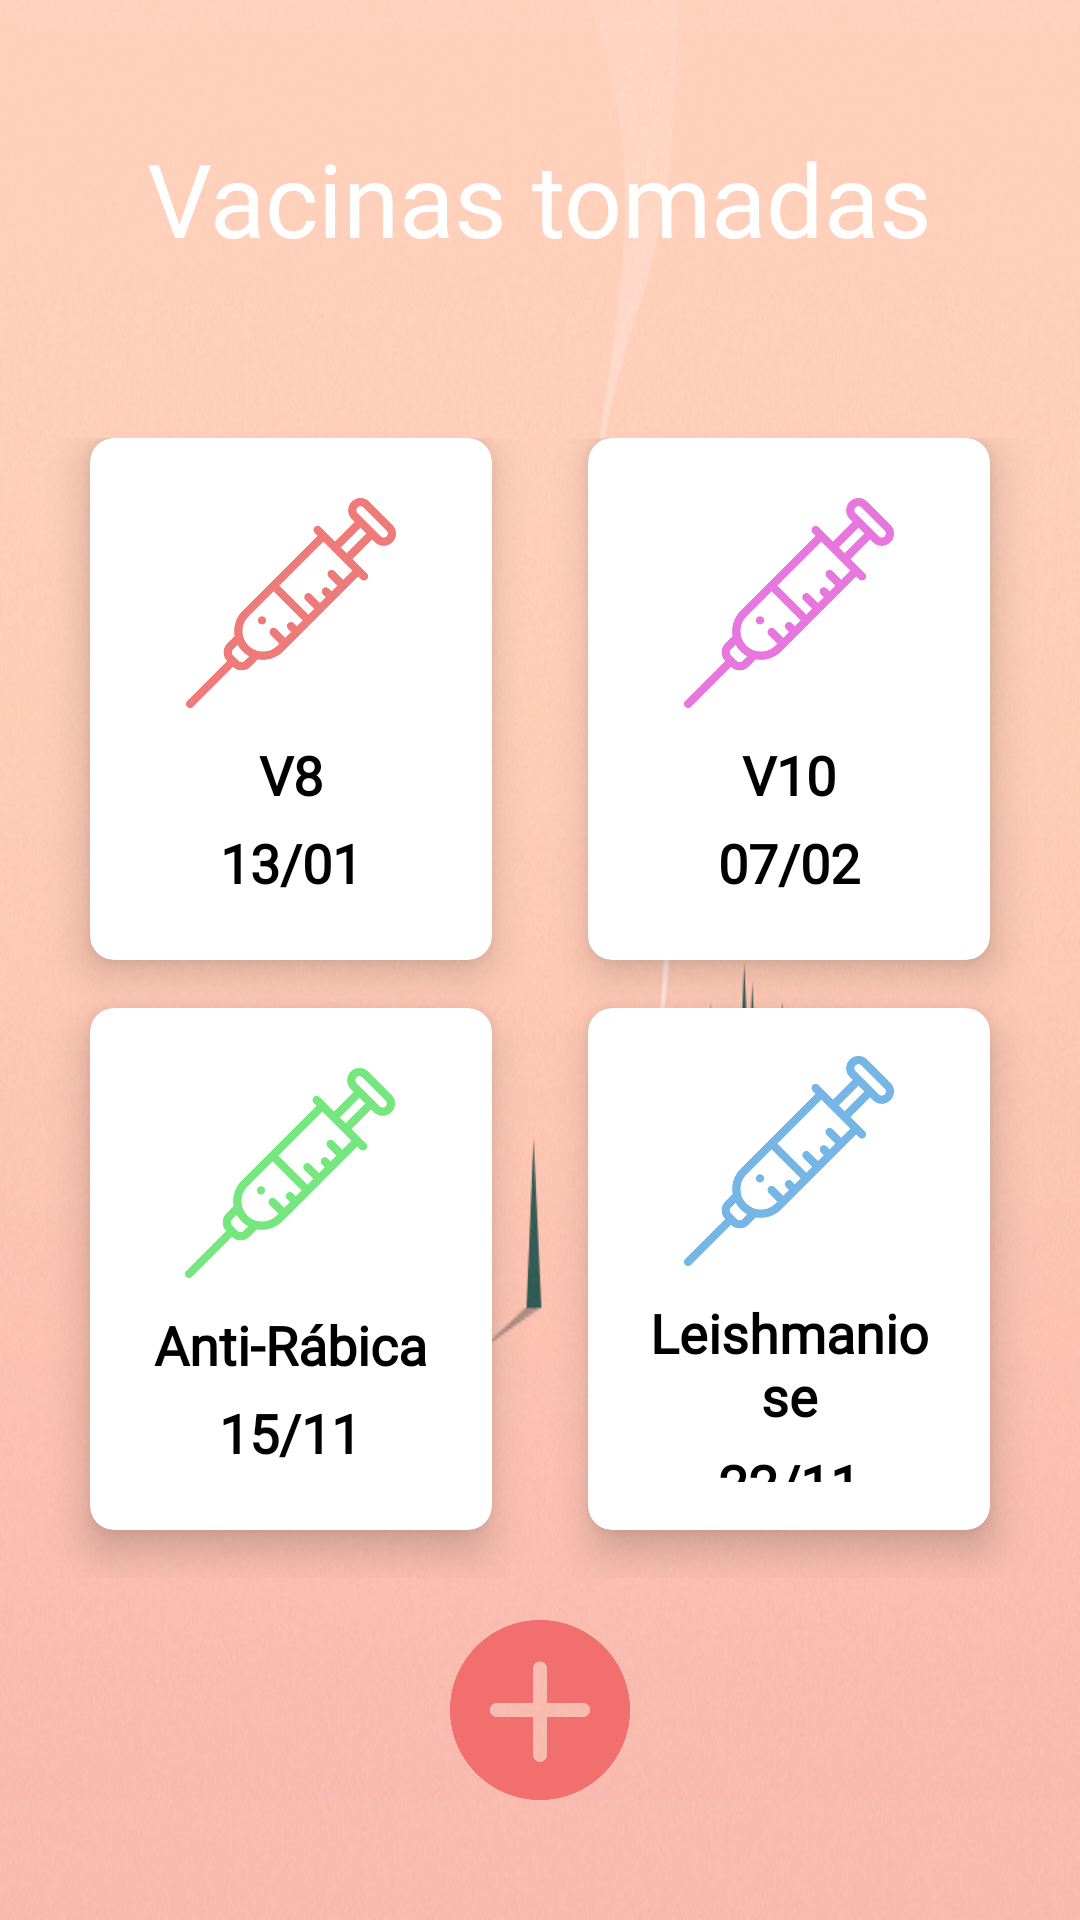

Icons on this 1080px x 1920px Android screen, each with its box as (x1, y1, x2, y2):
plus: (450, 1620, 630, 1800)
